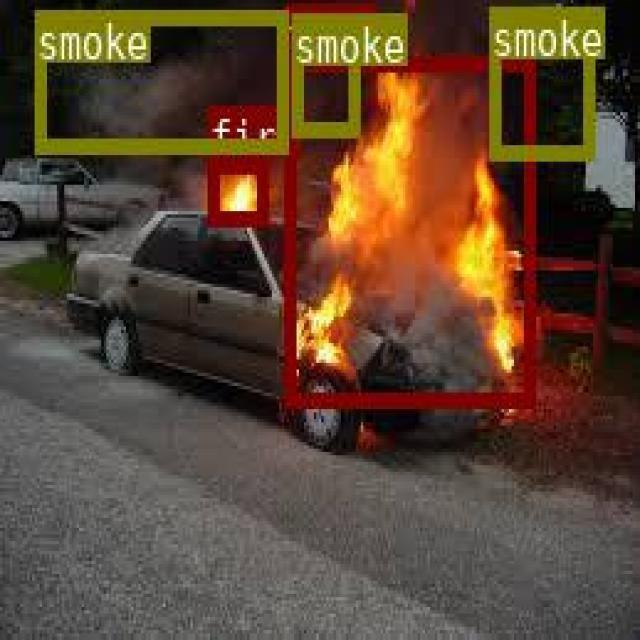fire: (284, 54, 531, 405), (207, 158, 267, 224)
smoke: (34, 8, 285, 151), (488, 5, 592, 158), (291, 13, 357, 133)
